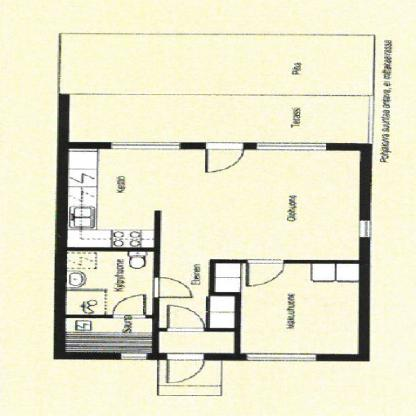door: (202, 143, 248, 174), (163, 354, 201, 384), (248, 260, 285, 288), (153, 277, 194, 300), (167, 305, 204, 330), (108, 295, 144, 320)
window: (248, 352, 317, 364), (109, 143, 184, 151), (255, 143, 327, 151), (357, 220, 374, 237), (118, 352, 144, 361)
zone: (67, 149, 360, 261), (61, 33, 372, 95), (71, 97, 370, 143), (242, 264, 355, 352), (68, 251, 153, 315), (159, 263, 233, 326), (66, 318, 152, 353), (156, 331, 233, 354)
